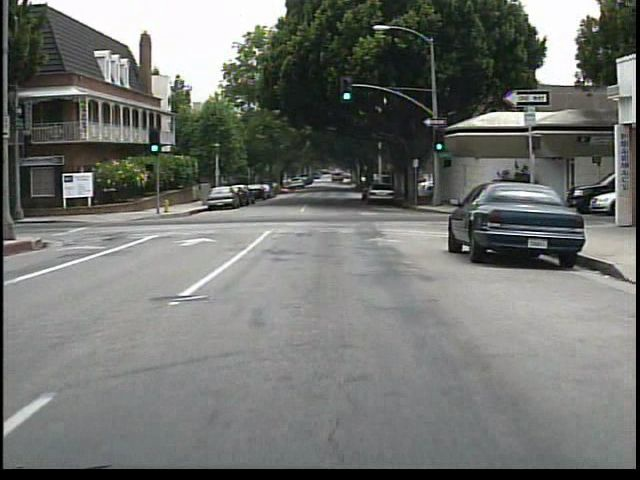person: (513, 170, 537, 214)
